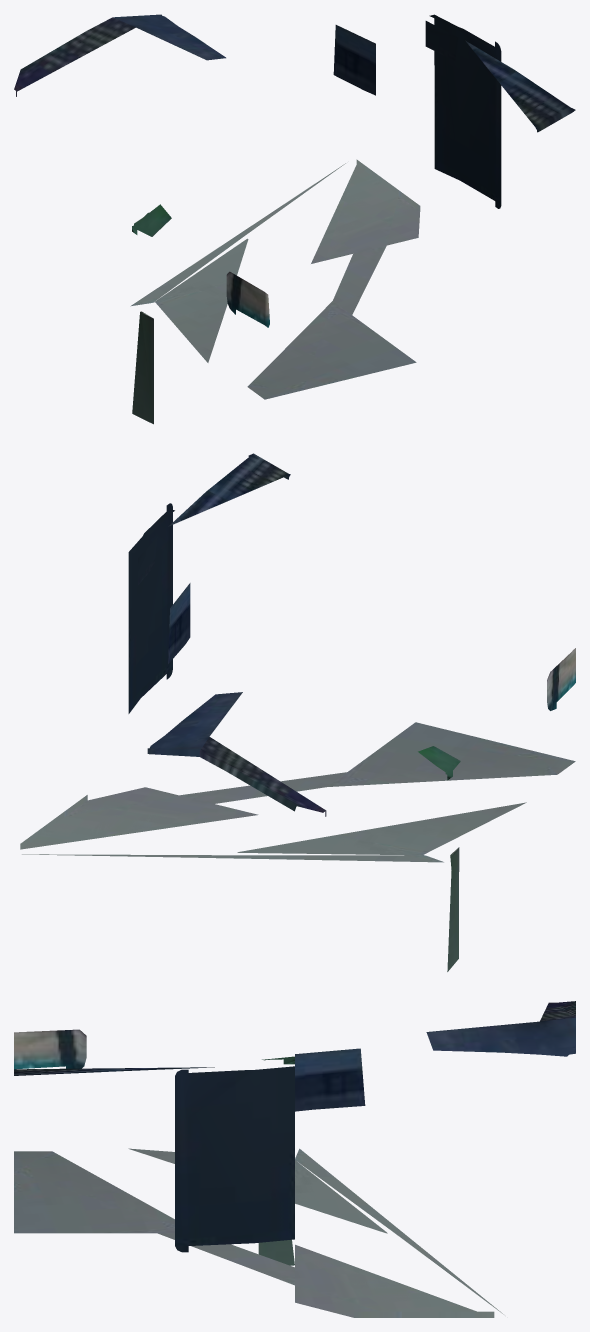
3 views of the same model, one above another, from view 1: azimuth 30°, elevation 25°; view 2: azimuth 150°, elevation 25°; view 3: azimuth 270°, elevation 25° (orthographic). The views are drawn at different scales.
Parts seen in each view (by area): view 1: 30436272704370427500_1; view 2: 30436272704370427500_1; view 3: 30436272704370427500_1.
Part boxes in pixels (x1,y1,x2,y2): 30436272704370427500_1: (14,14,575,424); 30436272704370427500_1: (20,453,575,971); 30436272704370427500_1: (14,1001,575,1317).
Bounding box in the file's own units: 27.47 × 27.43 × 38.26.
1 material, 1 textured.
